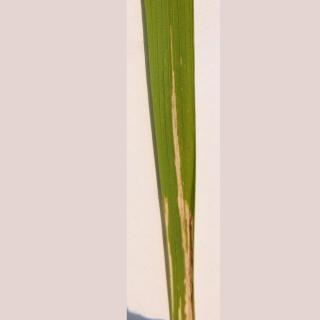Hawar-Daun: (143, 57, 211, 318)
